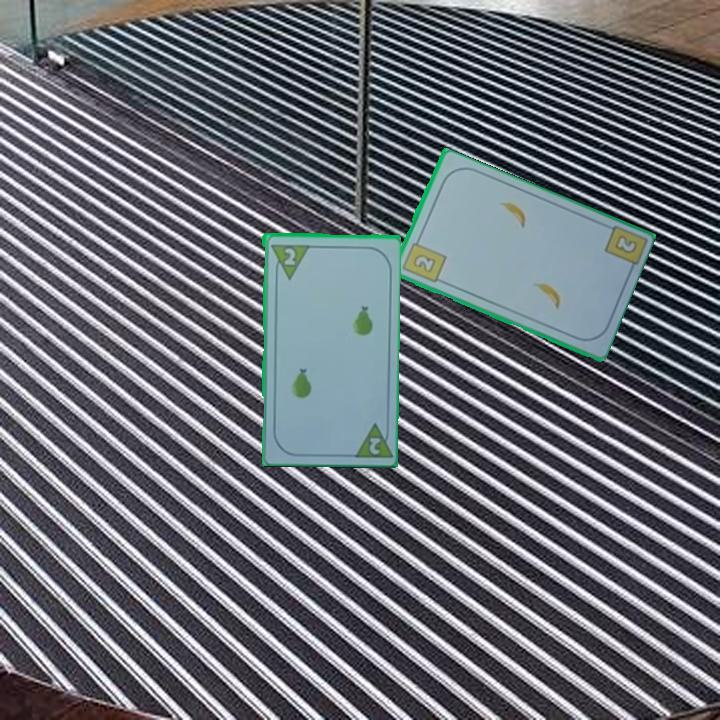2b: (398, 234, 448, 286), (611, 231, 640, 257)
2p: (348, 418, 393, 459), (267, 240, 310, 281)
